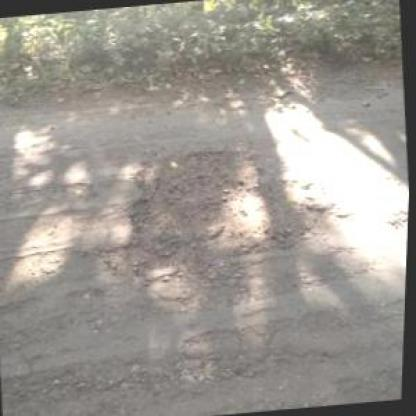pothole: (111, 137, 348, 287)
